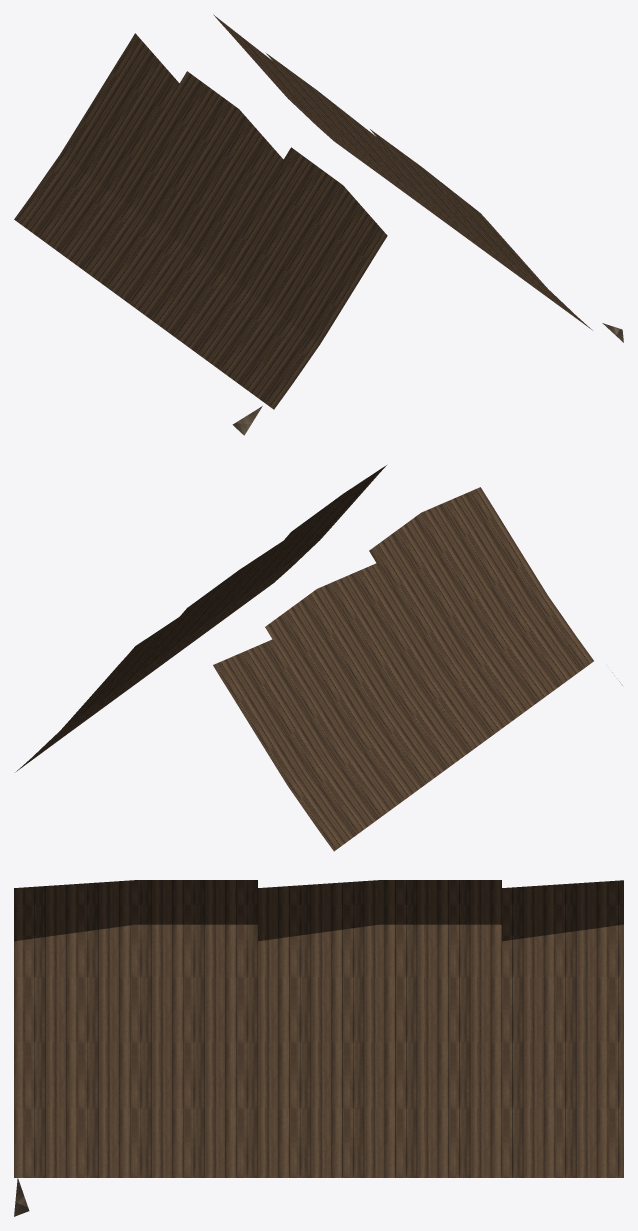
The model's file is Roof_Shingle_8x10_LOD2.gltf.
The picture shows the model from 3 angles, top to bottom: view 1: azimuth 30°, elevation 25°; view 2: azimuth 150°, elevation 25°; view 3: azimuth 270°, elevation 25°; orthographic projection. The views are drawn at different scales.
Visible parts, largest first — view 1: Roof_Shingle_8x10_LOD2; view 2: Roof_Shingle_8x10_LOD2; view 3: Roof_Shingle_8x10_LOD2.
Boxes of the visible parts, x1,y1,x2,y2 form: Roof_Shingle_8x10_LOD2: (14,14,623,435); Roof_Shingle_8x10_LOD2: (15,465,622,851); Roof_Shingle_8x10_LOD2: (14,880,623,1216).
Bounding box in the file's own units: 9.95 × 4.28 × 11.49.
Materials: 2 (2 with a texture image).
